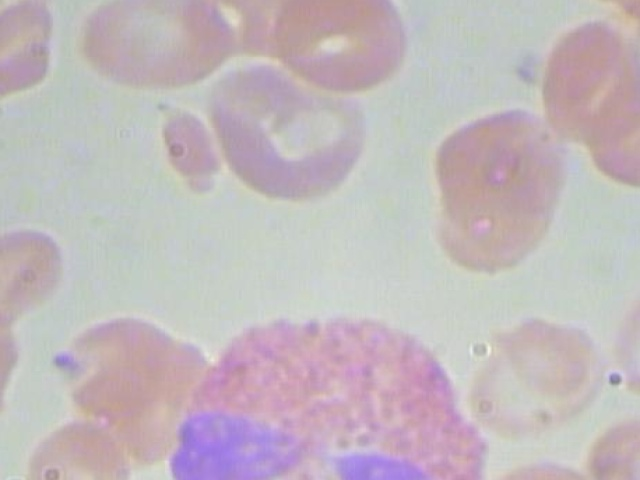RBC: (474, 309, 610, 436), (77, 0, 248, 90), (271, 0, 421, 95), (539, 12, 640, 145), (19, 411, 143, 480), (0, 0, 79, 108), (0, 215, 73, 331), (597, 272, 640, 418), (583, 411, 640, 480)
WBC: (156, 297, 492, 480)
